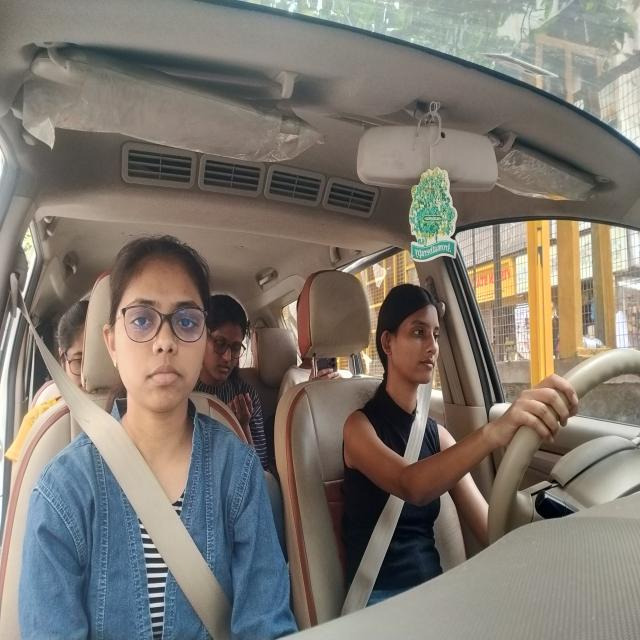person: (109, 232, 208, 424), (376, 274, 448, 397), (202, 290, 250, 391), (56, 299, 92, 404)
